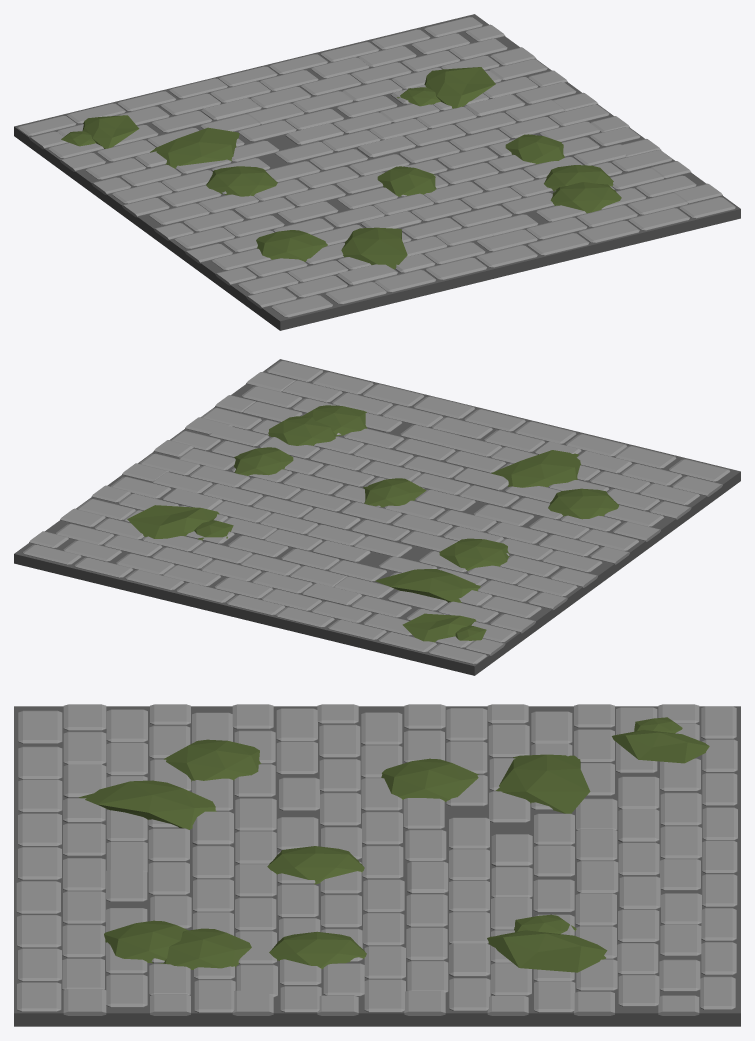
Rendered from DungeonGroundMossy.fbx.
3 renders of one model, top to bottom at view 1: azimuth 30°, elevation 25°; view 2: azimuth 150°, elevation 25°; view 3: azimuth 270°, elevation 25°, orthographic. The views are drawn at different scales.
Visible parts, largest first — view 1: DungeonGroundMossy; view 2: DungeonGroundMossy; view 3: DungeonGroundMossy.
Part boxes in pixels (left/top/right/bottom): DungeonGroundMossy: left=14, top=14, right=740, bottom=330; DungeonGroundMossy: left=14, top=359, right=740, bottom=675; DungeonGroundMossy: left=14, top=704, right=740, bottom=1026.
Size of the model in its own units: 505 by 19.37 by 505.
1 material, 1 textured.
